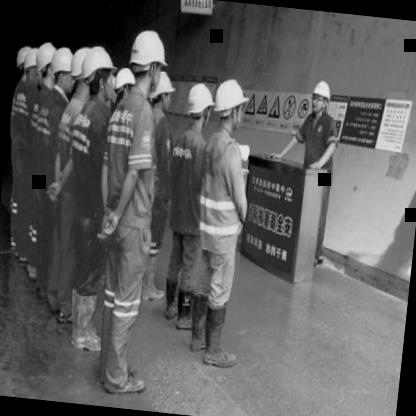helmet: (125, 26, 170, 95), (208, 73, 250, 138), (78, 42, 118, 108), (182, 81, 213, 129), (147, 69, 176, 120), (48, 46, 75, 96), (107, 64, 137, 106), (33, 35, 56, 88), (307, 74, 335, 116), (22, 47, 42, 82), (13, 42, 28, 77)
